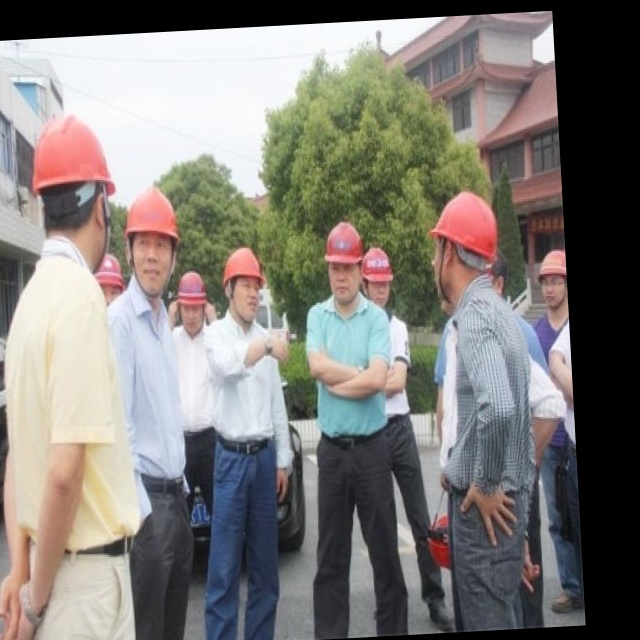Con_Casco: (322, 221, 366, 303), (221, 243, 265, 323)
